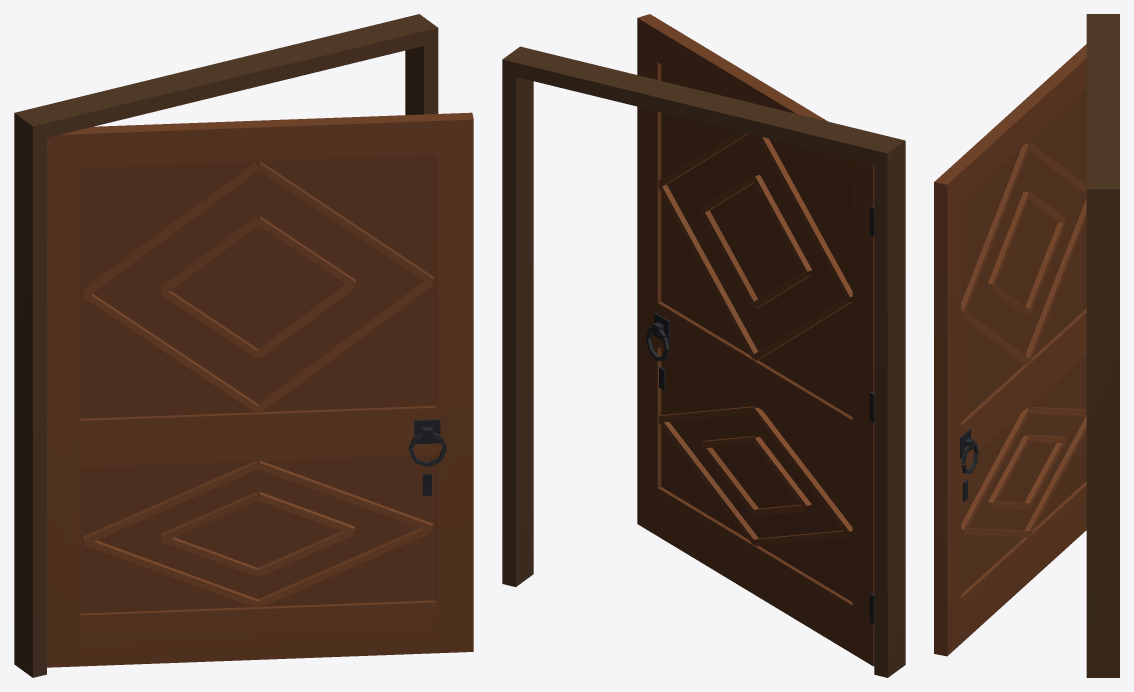
Rendered from door.oak_ajar.diamond.glb.
The picture shows the model from 3 angles, left to right: view 1: azimuth 30°, elevation 25°; view 2: azimuth 150°, elevation 25°; view 3: azimuth 270°, elevation 25°; orthographic projection. The views are drawn at different scales.
Visible parts, largest first — view 1: door_oak_ajar_diamond; view 2: door_oak_ajar_diamond; view 3: door_oak_ajar_diamond.
Part boxes in pixels (<box>): door_oak_ajar_diamond: <box>14,14,473,677</box>; door_oak_ajar_diamond: <box>502,14,905,677</box>; door_oak_ajar_diamond: <box>934,14,1119,677</box>.
Size of what is drawn, in the model's own units: 2 by 2.6 by 0.896.
